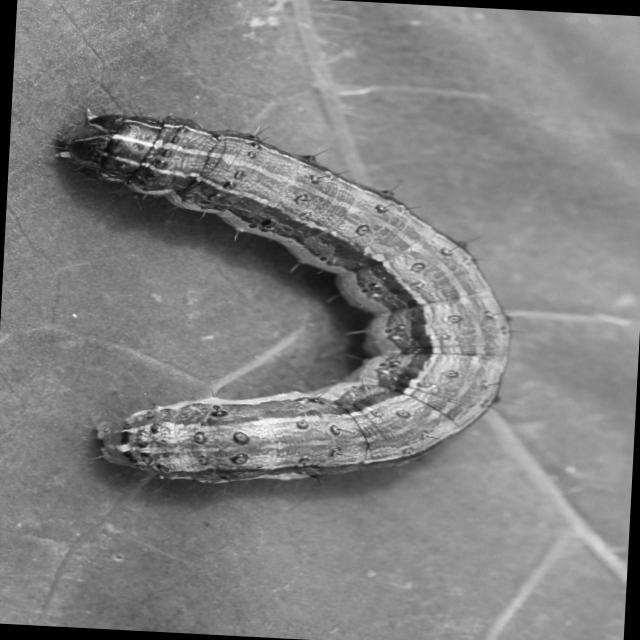Armyworm: (1, 90, 594, 526)
